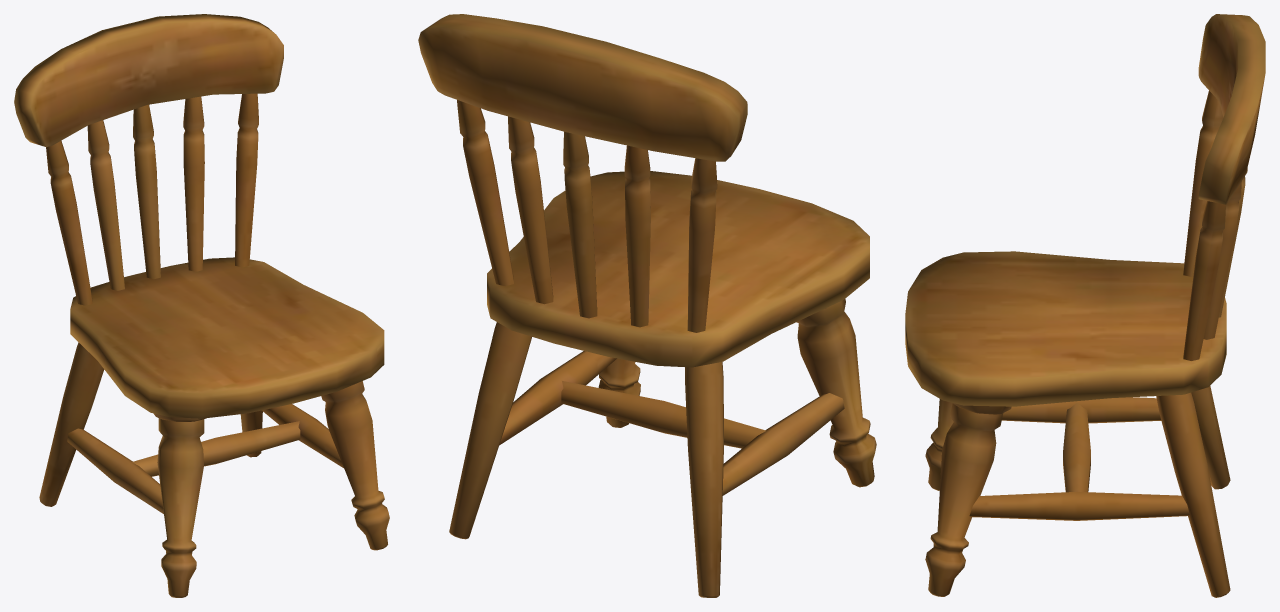
The picture shows the model from 3 angles, left to right: view 1: azimuth 30°, elevation 25°; view 2: azimuth 150°, elevation 25°; view 3: azimuth 270°, elevation 25°; orthographic projection. The views are drawn at different scales.
Size of the model in its own units: 6.63 by 10.77 by 7.2.
Materials: 1 (1 with a texture image).
